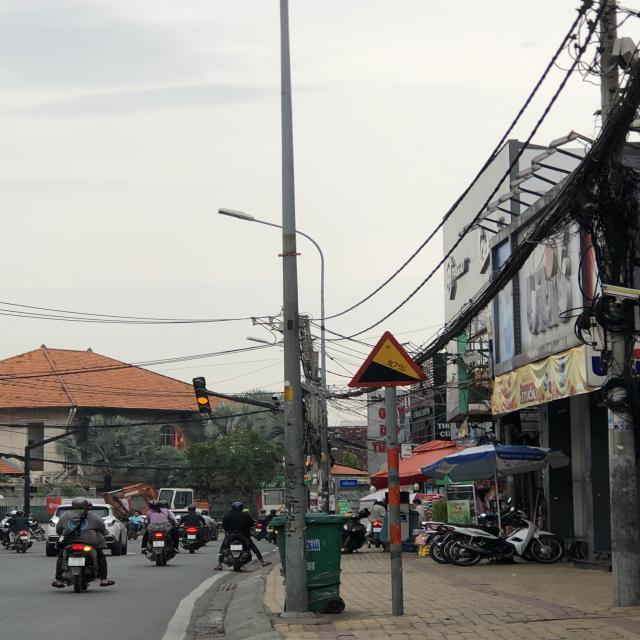Bien bao doc xuong nguy hiem: (341, 328, 432, 390)
